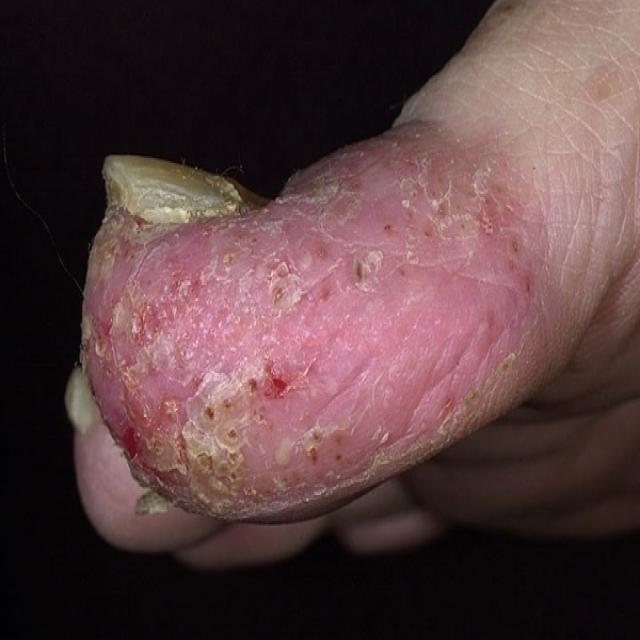Psoriasis Pustulosa: (82, 124, 538, 519)
